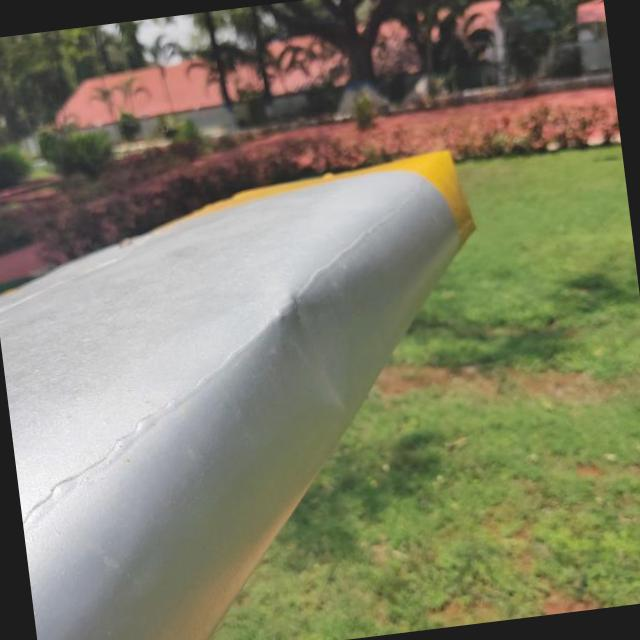dent: (245, 268, 378, 436)
